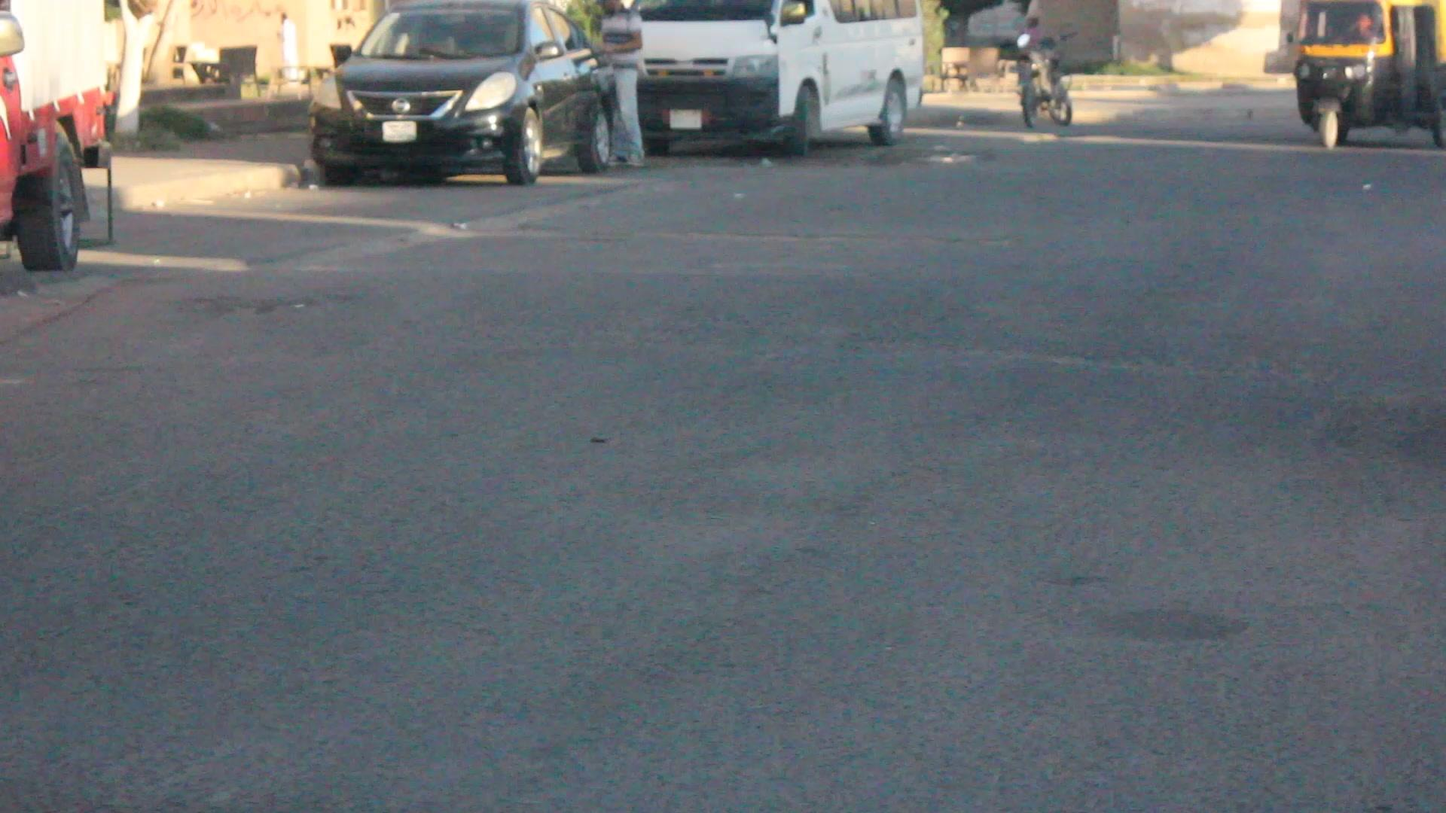Bump: (0, 273, 1445, 388)
